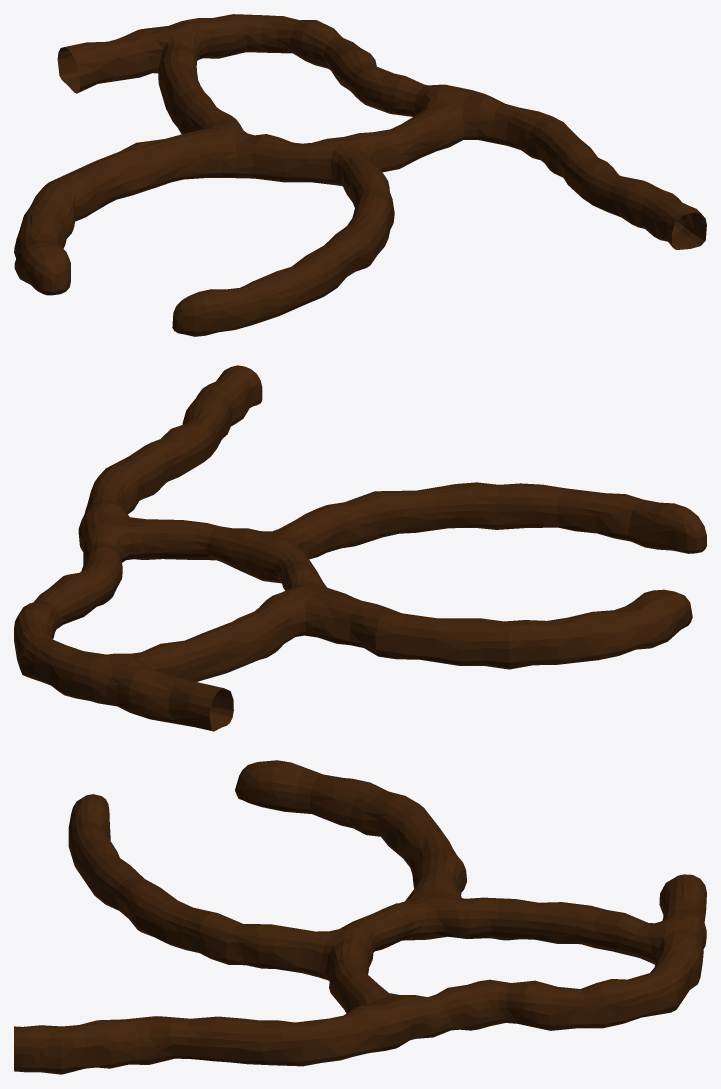
Rendered from Cave Model.fbx.
3 renders of one model, top to bottom at view 1: azimuth 30°, elevation 25°; view 2: azimuth 150°, elevation 25°; view 3: azimuth 270°, elevation 25°, orthographic. The views are drawn at different scales.
Parts seen in each view (by area): view 1: Malha; view 2: Malha; view 3: Malha.
Boxes of the visible parts, x1,y1,x2,y2 form: Malha: (14,14,706,336); Malha: (14,365,706,731); Malha: (14,760,706,1074).
Size of what is drawn, in the model's own units: 4214 by 309 by 4337.
